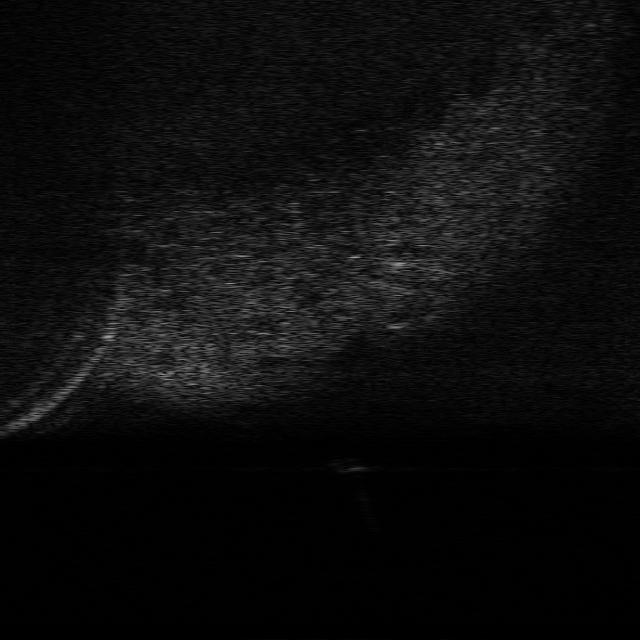cube: (330, 456, 370, 474)
